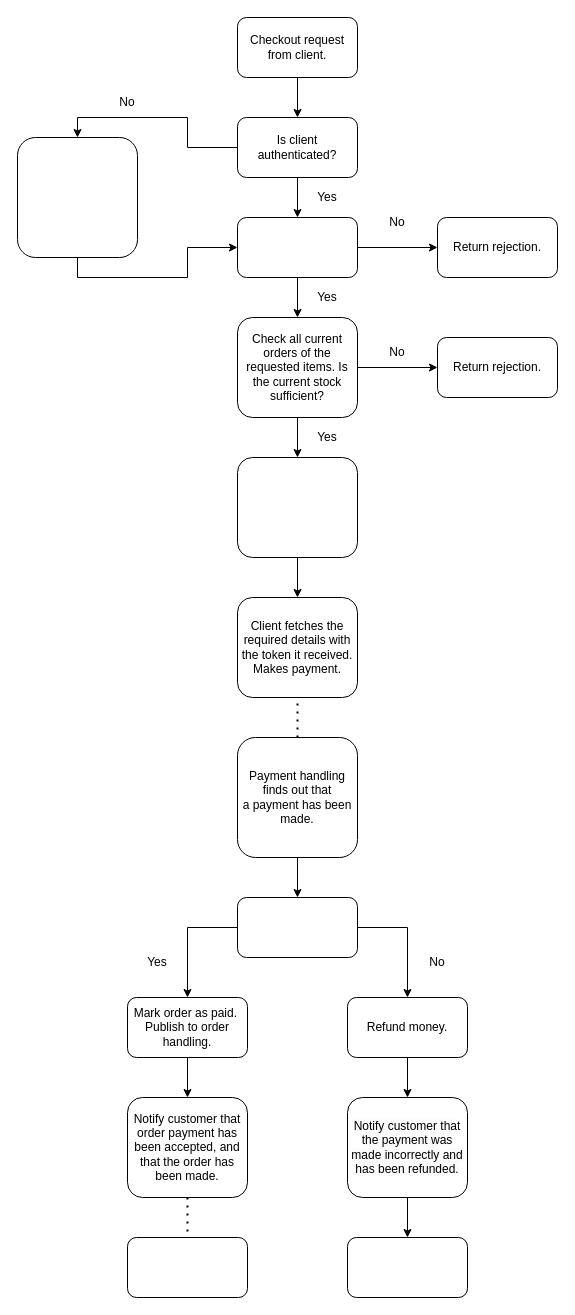
This 575x1315 diagram has some shape labels left out. Each missing label, with the centre of its shape:
"Are the credentials valid?" belongs at (x=297, y=247).
"Create order. Publish in PubSub to payment handling. Return token to client." belongs at (x=297, y=507).
"Is payment correct?" belongs at (x=297, y=927).
"Order gets cancelled." belongs at (x=407, y=1267).
"Order gets completed." belongs at (x=187, y=1267).
"Try to create customer with given credentials. No password." belongs at (x=77, y=197).
